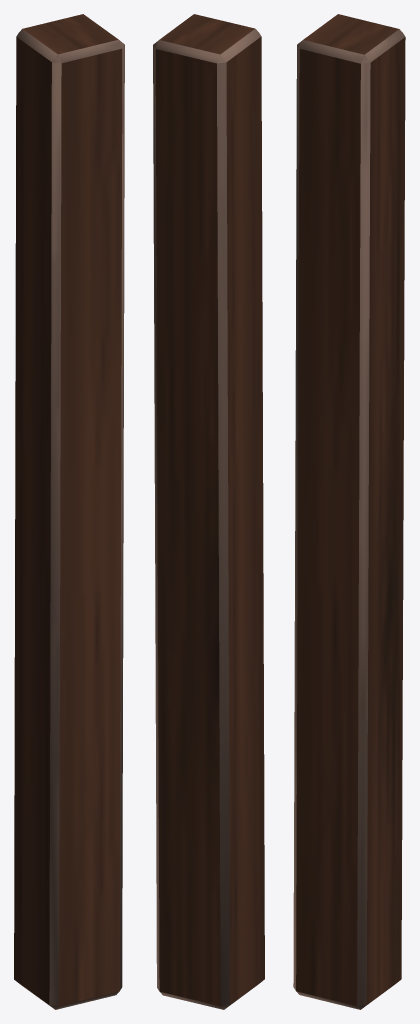
The model's file is SM_Mod_Corner_Timber.gltf.
3 renders of one model, left to right at view 1: azimuth 30°, elevation 25°; view 2: azimuth 150°, elevation 25°; view 3: azimuth 330°, elevation 25°, orthographic.
Parts seen in each view (by area): view 1: SM_Mod_Corner_Timber; view 2: SM_Mod_Corner_Timber; view 3: SM_Mod_Corner_Timber.
Boxes of the visible parts, <box> form: SM_Mod_Corner_Timber: <box>14,14,124,1009</box>; SM_Mod_Corner_Timber: <box>153,14,264,1009</box>; SM_Mod_Corner_Timber: <box>293,14,405,1009</box>.
Bounding box in the file's own units: 0.2517 × 3 × 0.2449.
1 material, 1 textured.
